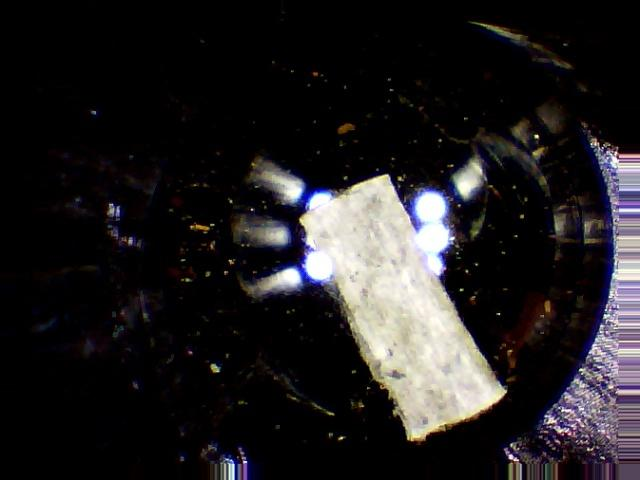megot: (295, 167, 520, 447)
